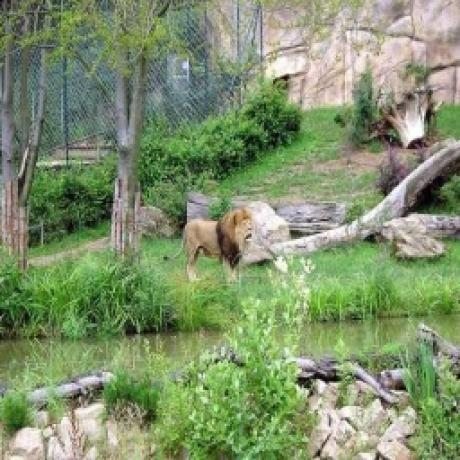Lion: (168, 206, 262, 287)
